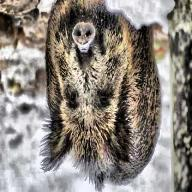boar: (32, 0, 182, 192)
